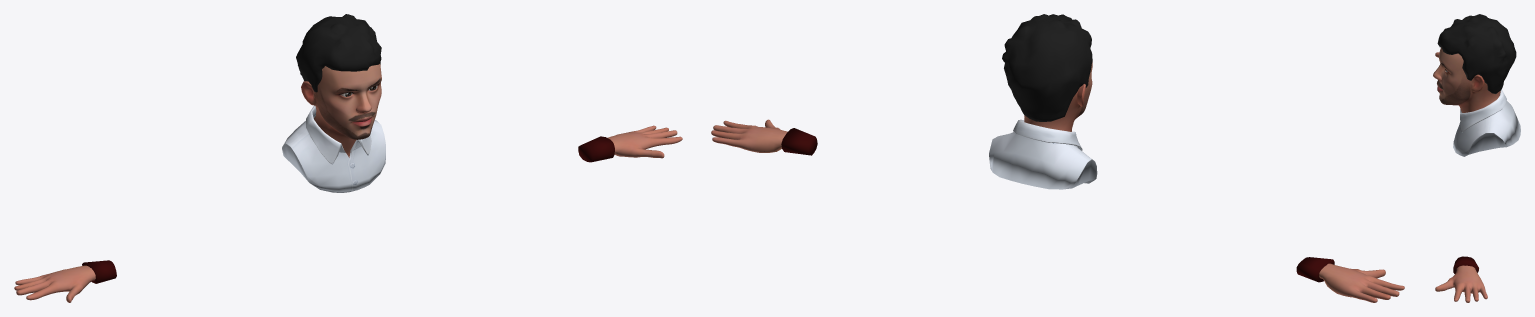
Rendered from husseinRPM.gltf.
3 renders of one model, left to right at view 1: azimuth 30°, elevation 25°; view 2: azimuth 150°, elevation 25°; view 3: azimuth 270°, elevation 25°, orthographic. The views are drawn at different scales.
Parts seen in each view (by area): view 1: Wolf3D_Shirt, Wolf3D_Hands, Wolf3D_Head, Wolf3D_Hair; view 2: Wolf3D_Hair, Wolf3D_Shirt, Wolf3D_Hands, Wolf3D_Head; view 3: Wolf3D_Hair, Wolf3D_Shirt, Wolf3D_Head, Wolf3D_Hands.
Part boxes in pixels (bbox=[...]): Wolf3D_Shirt: bbox=[282, 105, 385, 192]; Wolf3D_Hands: bbox=[14, 125, 682, 302]; Wolf3D_Head: bbox=[301, 64, 381, 157]; Wolf3D_Hair: bbox=[296, 14, 381, 92]; Wolf3D_Hair: bbox=[1002, 14, 1092, 121]; Wolf3D_Shirt: bbox=[989, 119, 1097, 189]; Wolf3D_Hands: bbox=[711, 119, 1404, 302]; Wolf3D_Head: bbox=[1024, 62, 1092, 131]; Wolf3D_Hair: bbox=[1437, 14, 1516, 93]; Wolf3D_Shirt: bbox=[1453, 89, 1520, 156]; Wolf3D_Head: bbox=[1433, 47, 1500, 112]; Wolf3D_Hands: bbox=[1435, 52, 1487, 302].
Bounding box in the file's own units: 1.67 × 0.472 × 0.2372.
7 materials, 7 textured.
